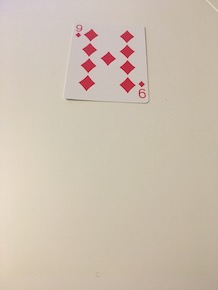NineOfDiamonds: (63, 17, 153, 109)
